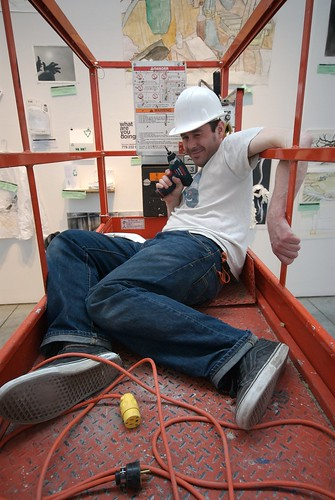person hardhat: (1, 88, 306, 437)
